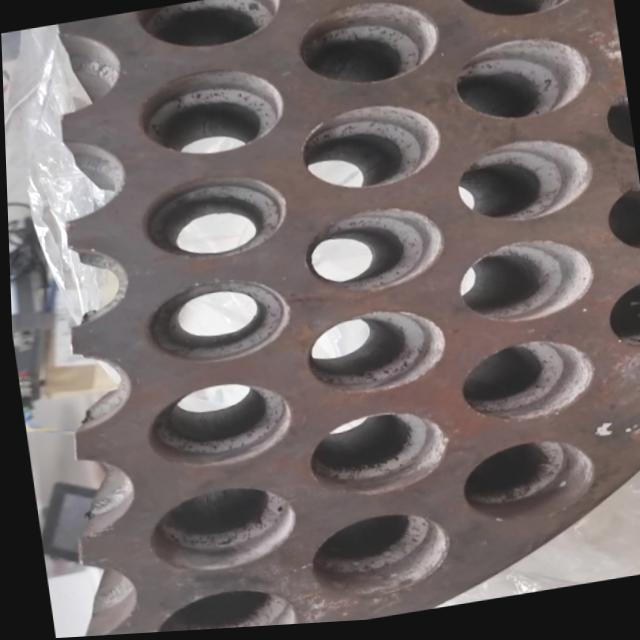Hole: (137, 478, 298, 582), (137, 374, 295, 479), (131, 61, 288, 166), (136, 271, 293, 374), (133, 169, 290, 270), (295, 202, 447, 305), (294, 99, 445, 202), (299, 407, 450, 508), (296, 305, 448, 405), (299, 509, 449, 608), (447, 33, 595, 133), (449, 236, 597, 336), (292, 0, 443, 97), (450, 136, 595, 236), (452, 337, 596, 435), (451, 437, 595, 532), (134, 0, 284, 60), (140, 582, 293, 634), (448, 0, 594, 32), (596, 285, 640, 360), (598, 187, 640, 265), (598, 88, 635, 176)
